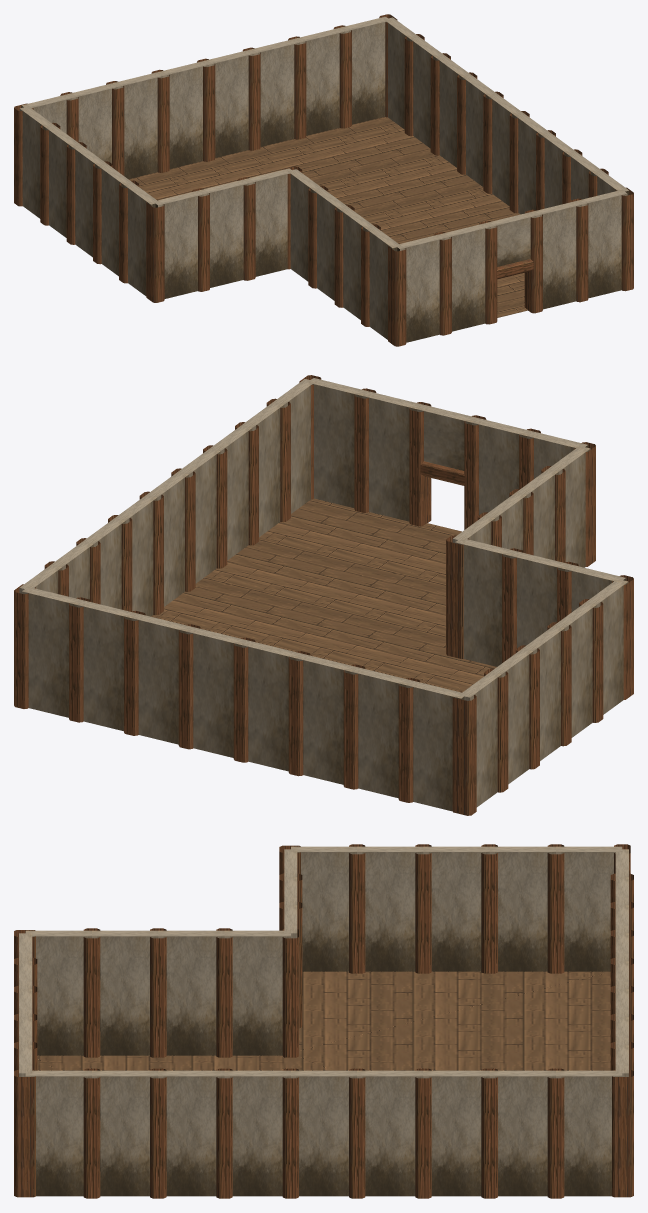
File: testgaus.glb
3 views of the same model, one above another, from view 1: azimuth 30°, elevation 25°; view 2: azimuth 150°, elevation 25°; view 3: azimuth 270°, elevation 25° (orthographic). The views are drawn at different scales.
Parts seen in each view (by area): view 1: Plane, Plane.001; view 2: Plane, Plane.001; view 3: Plane, Plane.001.
Boxes of the visible parts, left/top/right/bottom form: Plane: left=14, top=14, right=633, bottom=346; Plane.001: left=128, top=116, right=527, bottom=317; Plane: left=14, top=375, right=633, bottom=815; Plane.001: left=151, top=498, right=496, bottom=691; Plane: left=14, top=844, right=633, bottom=1198; Plane.001: left=37, top=971, right=610, bottom=1070.
Size of the model in its own units: 73.2 by 17.53 by 81.97.
Materials: 3 (3 with a texture image).
